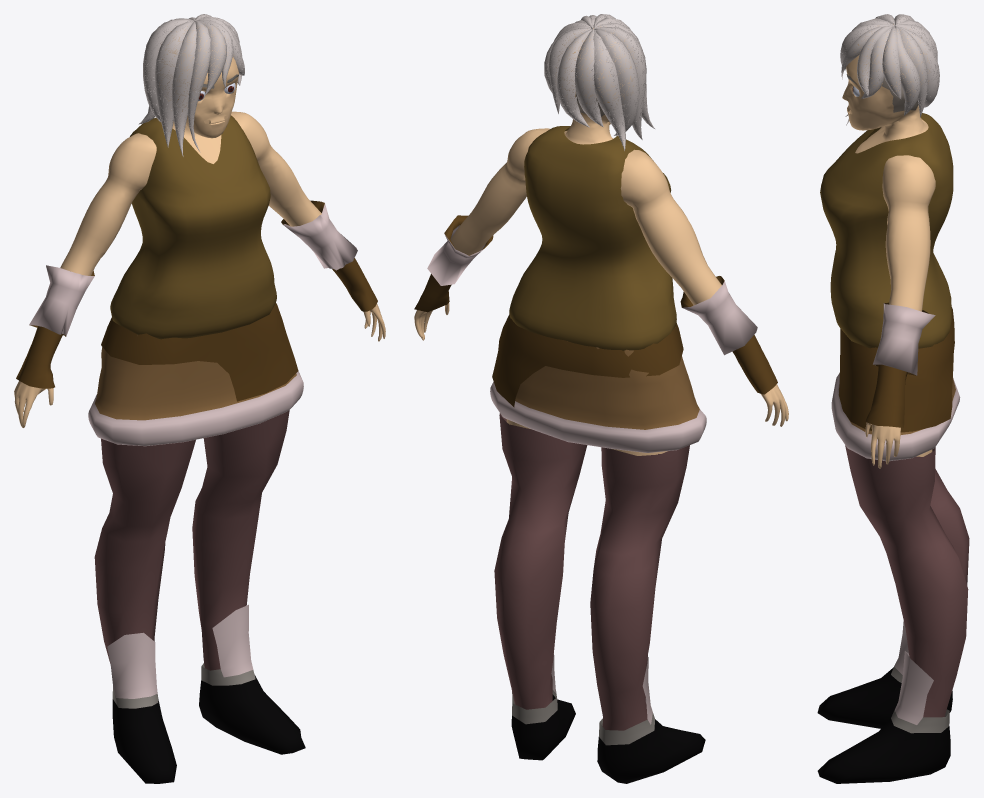
File: Amazona.fbx
3 renders of one model, left to right at view 1: azimuth 30°, elevation 25°; view 2: azimuth 150°, elevation 25°; view 3: azimuth 270°, elevation 25°, orthographic.
Parts seen in each view (by area): view 1: Amazona; view 2: Amazona; view 3: Amazona.
Boxes of the visible parts, bbox=[...] form: Amazona: bbox=[14, 14, 385, 783]; Amazona: bbox=[414, 14, 788, 783]; Amazona: bbox=[817, 14, 969, 783].
Bounding box in the file's own units: 97.93 × 188 × 35.53.
1 material, 1 textured.
